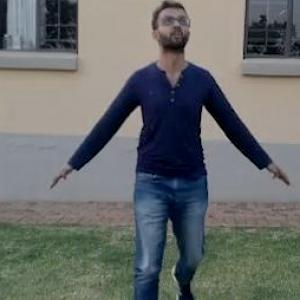land: (7, 0, 295, 299)
